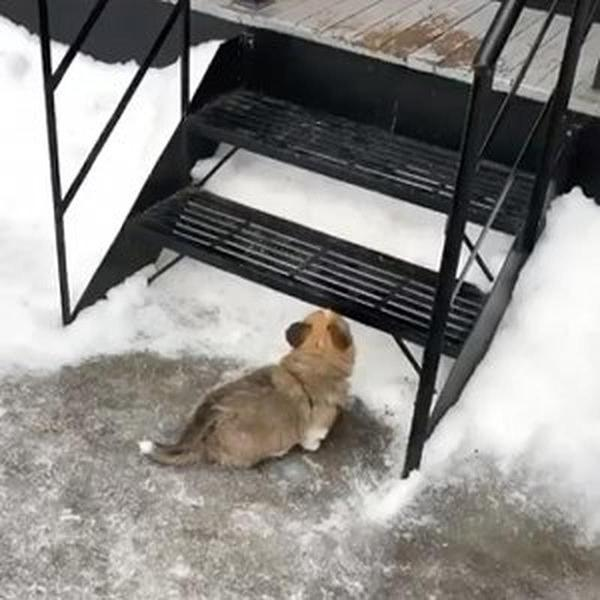allqu: (129, 288, 392, 488)
